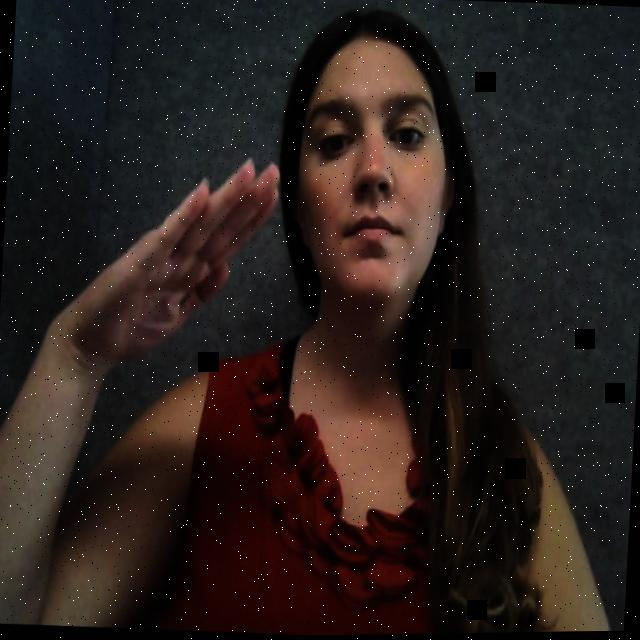Paper: (51, 152, 289, 413)
